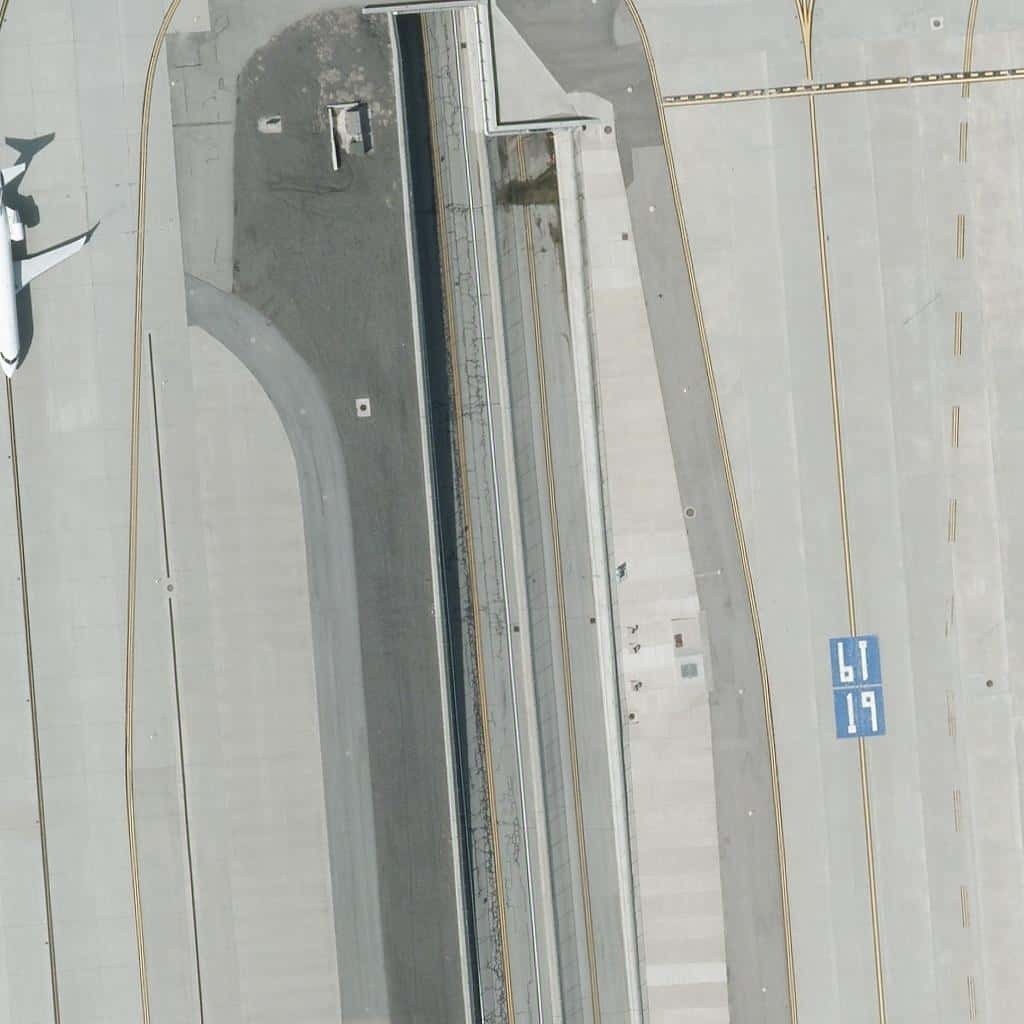plane: (1, 118, 93, 386)
